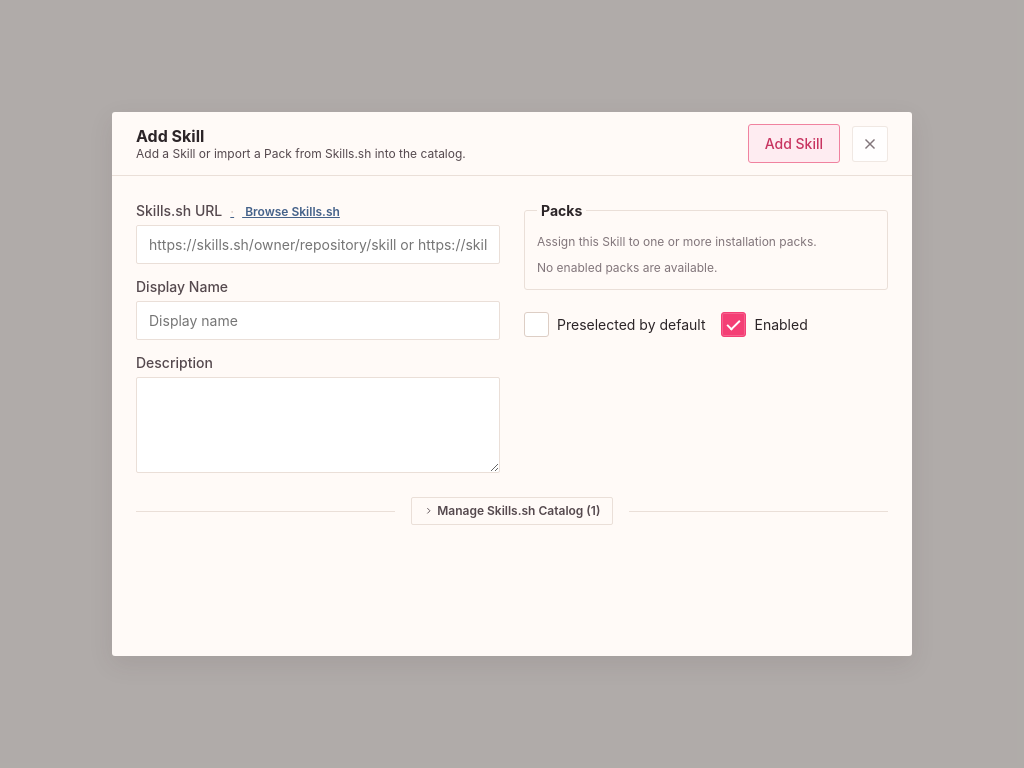
Test: AddSkillDialog › Skills.sh catalog table › shows a delete error when the backend rejects it
Click the button with class "add-skill-dialog__catalog-toggle" at (512, 511), box [411, 497, 613, 525]
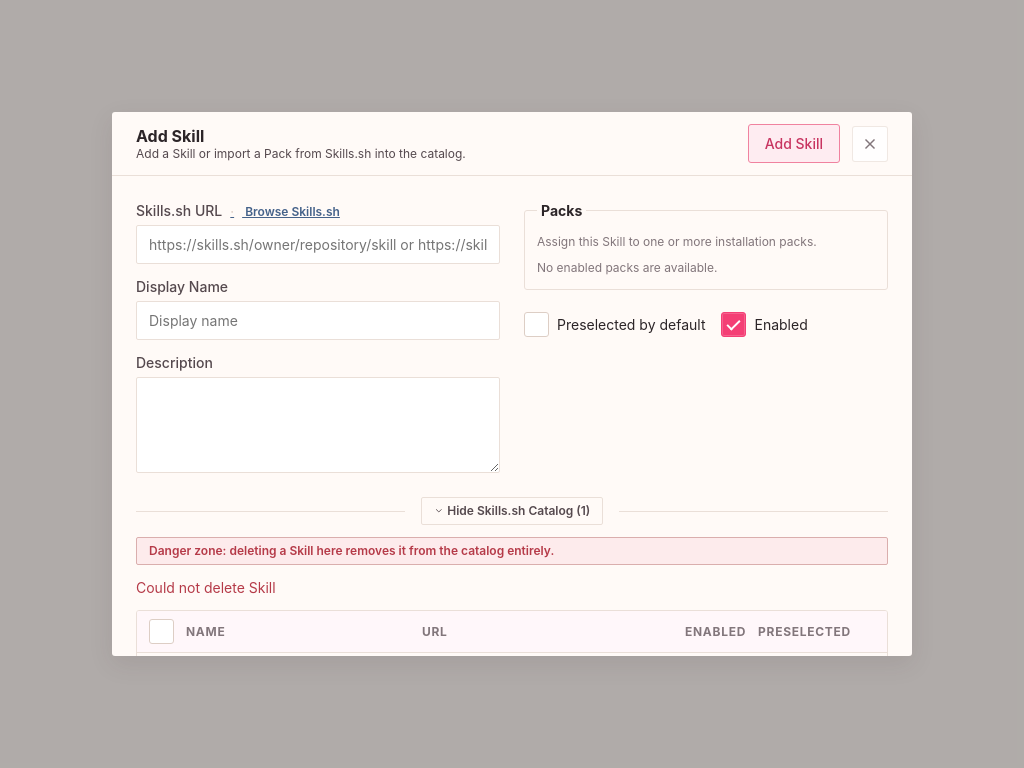
Result: the message with class "add-skill-dialog__error" reads "Could not delete Skill" at [136, 579, 276, 596]
